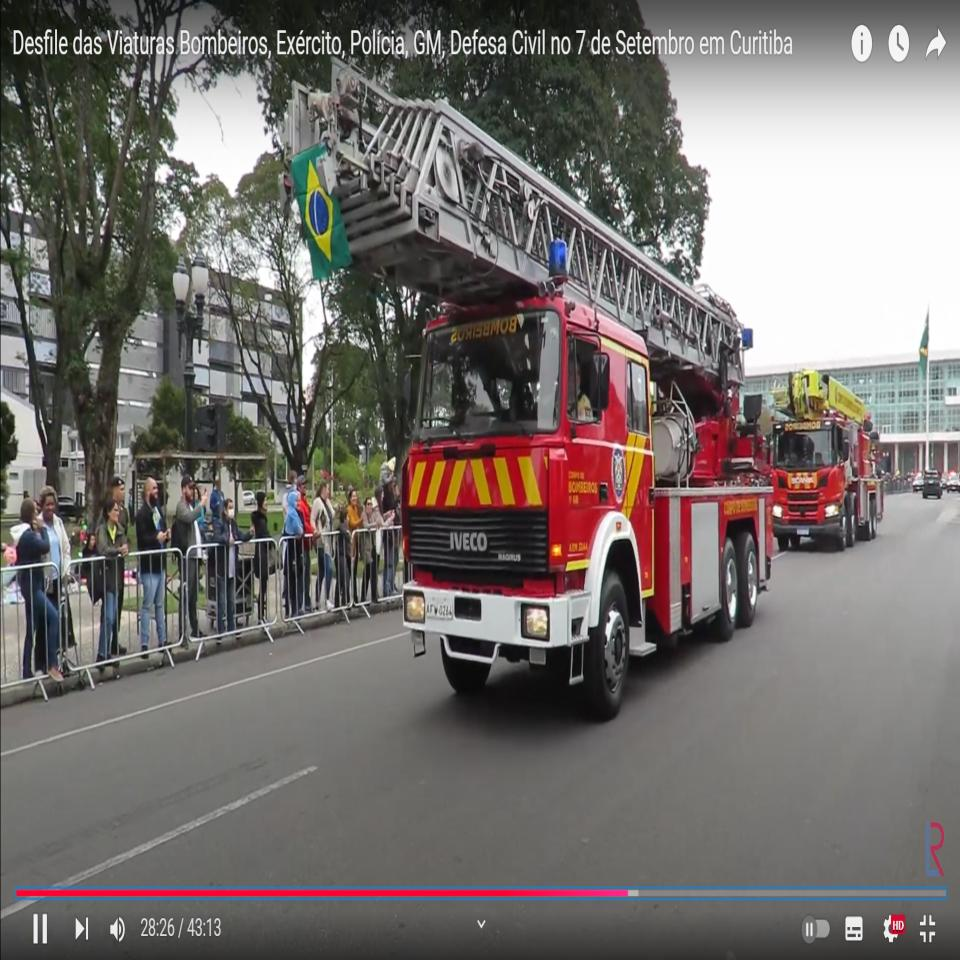viatura: (284, 61, 777, 719), (770, 367, 886, 549)
